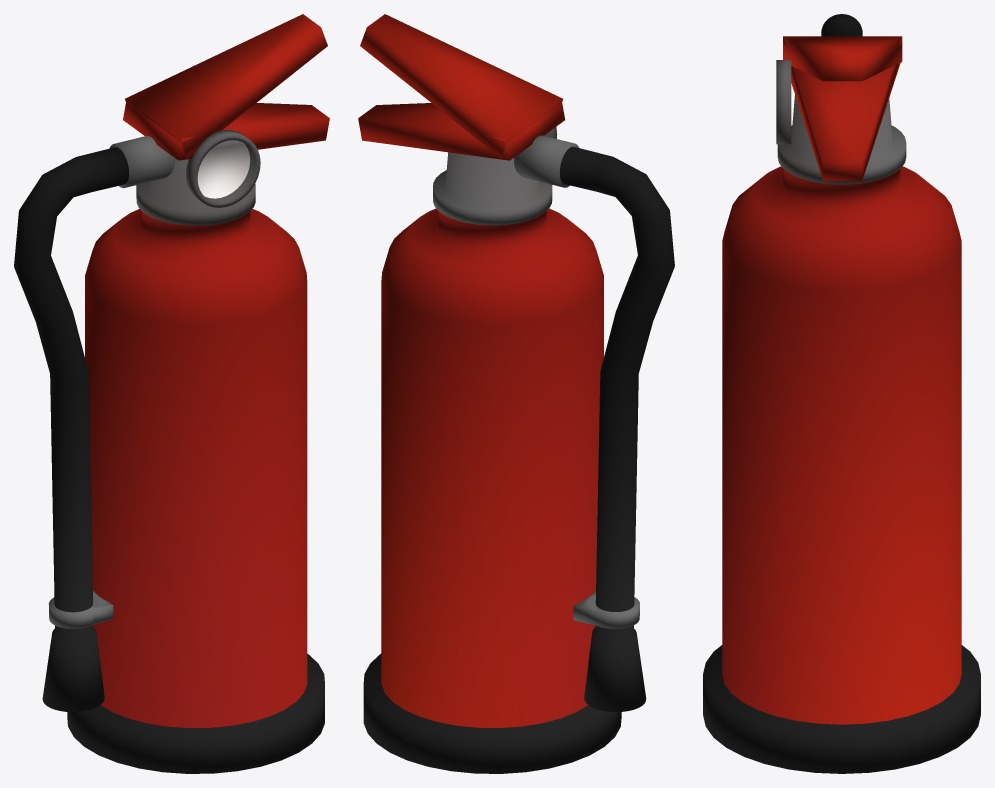
The model's file is yangın söndürücü.fbx.
3 views of the same model, side by side, from view 1: azimuth 30°, elevation 25°; view 2: azimuth 150°, elevation 25°; view 3: azimuth 270°, elevation 25° (orthographic). The views are drawn at different scales.
Visible parts, largest first — view 1: Circle; view 2: Circle; view 3: Circle.
Part boxes in pixels (x1,y1,x2,y2): Circle: [14, 14, 329, 773]; Circle: [358, 14, 674, 773]; Circle: [703, 14, 980, 773].
Bounding box in the file's own units: 30.75 × 64.69 × 22.61.
1 material, 1 textured.
